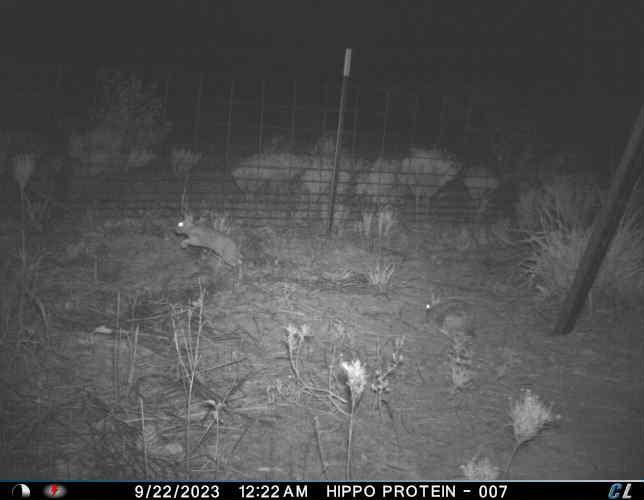Rabbit: (175, 211, 244, 266), (424, 289, 478, 338)
